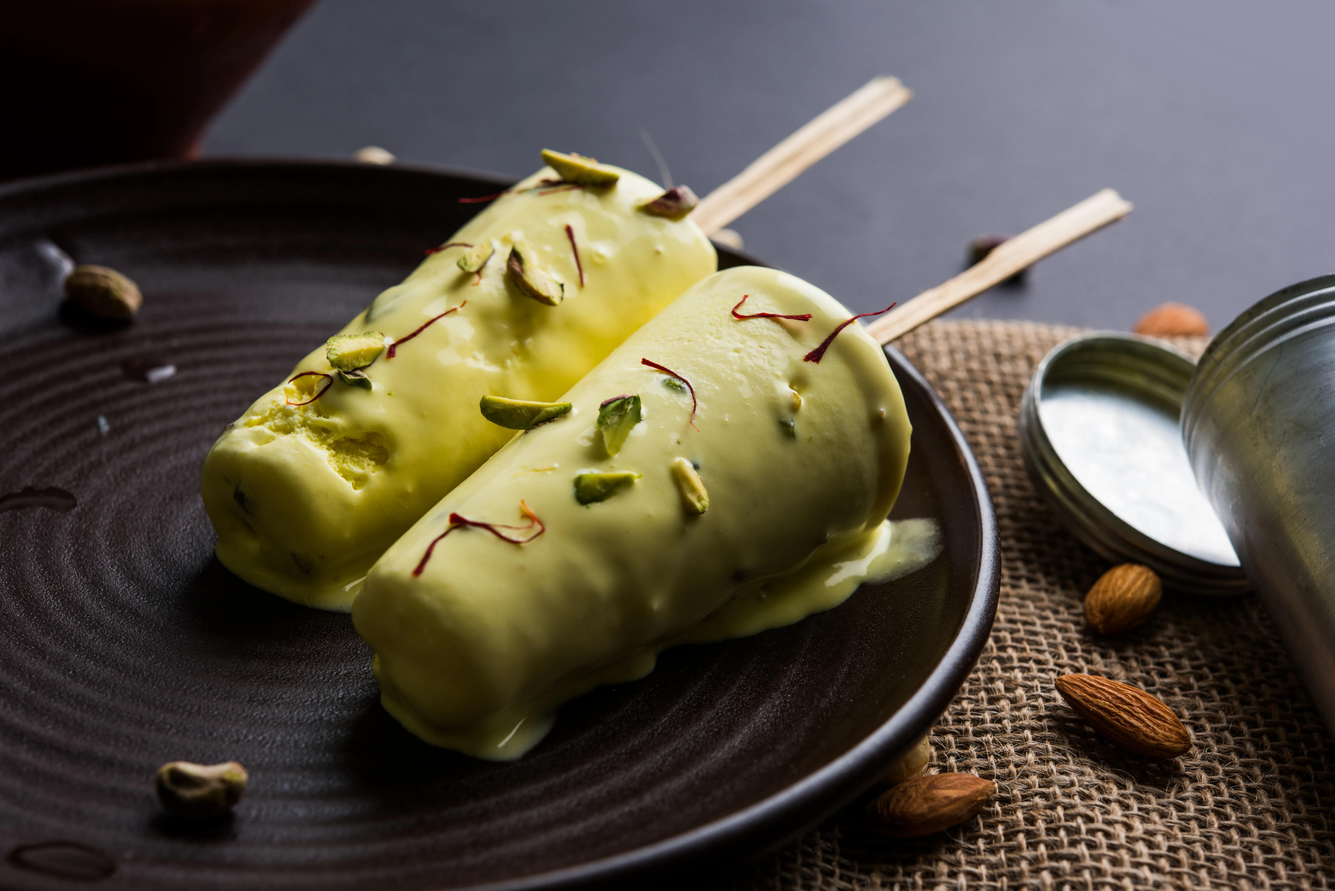Kulfi: (348, 263, 914, 745), (200, 152, 716, 587)
